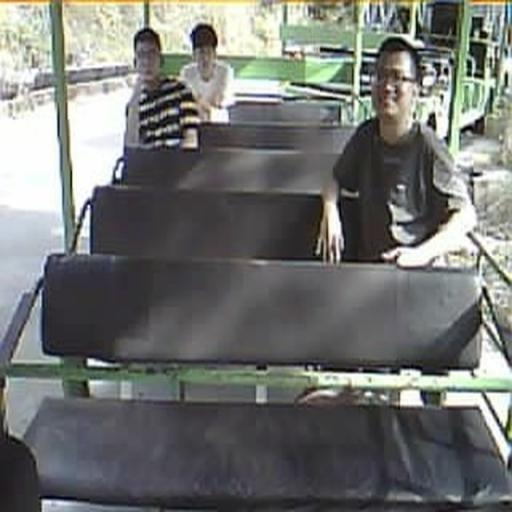persona: (314, 35, 478, 270), (122, 27, 202, 158), (178, 22, 234, 123)
